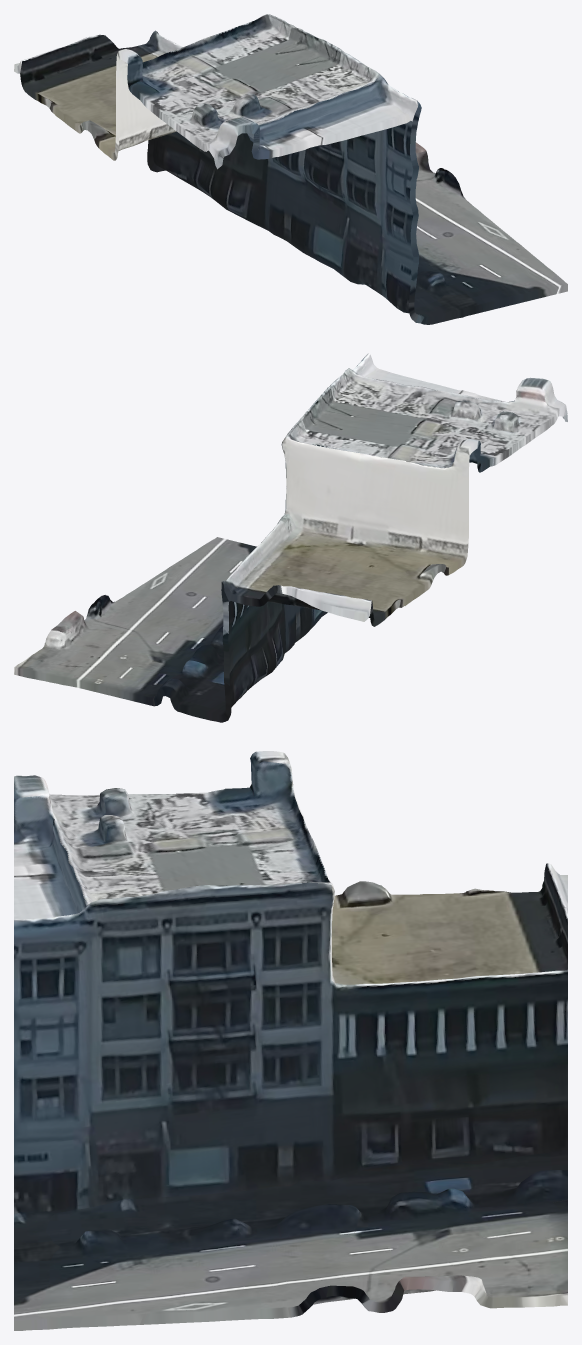
The model's file is z20-167744-405244-h0-yup-uvflip-v3-world.glb.
3 views of the same model, one above another, from view 1: azimuth 30°, elevation 25°; view 2: azimuth 150°, elevation 25°; view 3: azimuth 270°, elevation 25° (orthographic). The views are drawn at different scales.
Bounding box in the file's own units: 30.2 × 21 × 30.32.
1 material, 1 textured.
